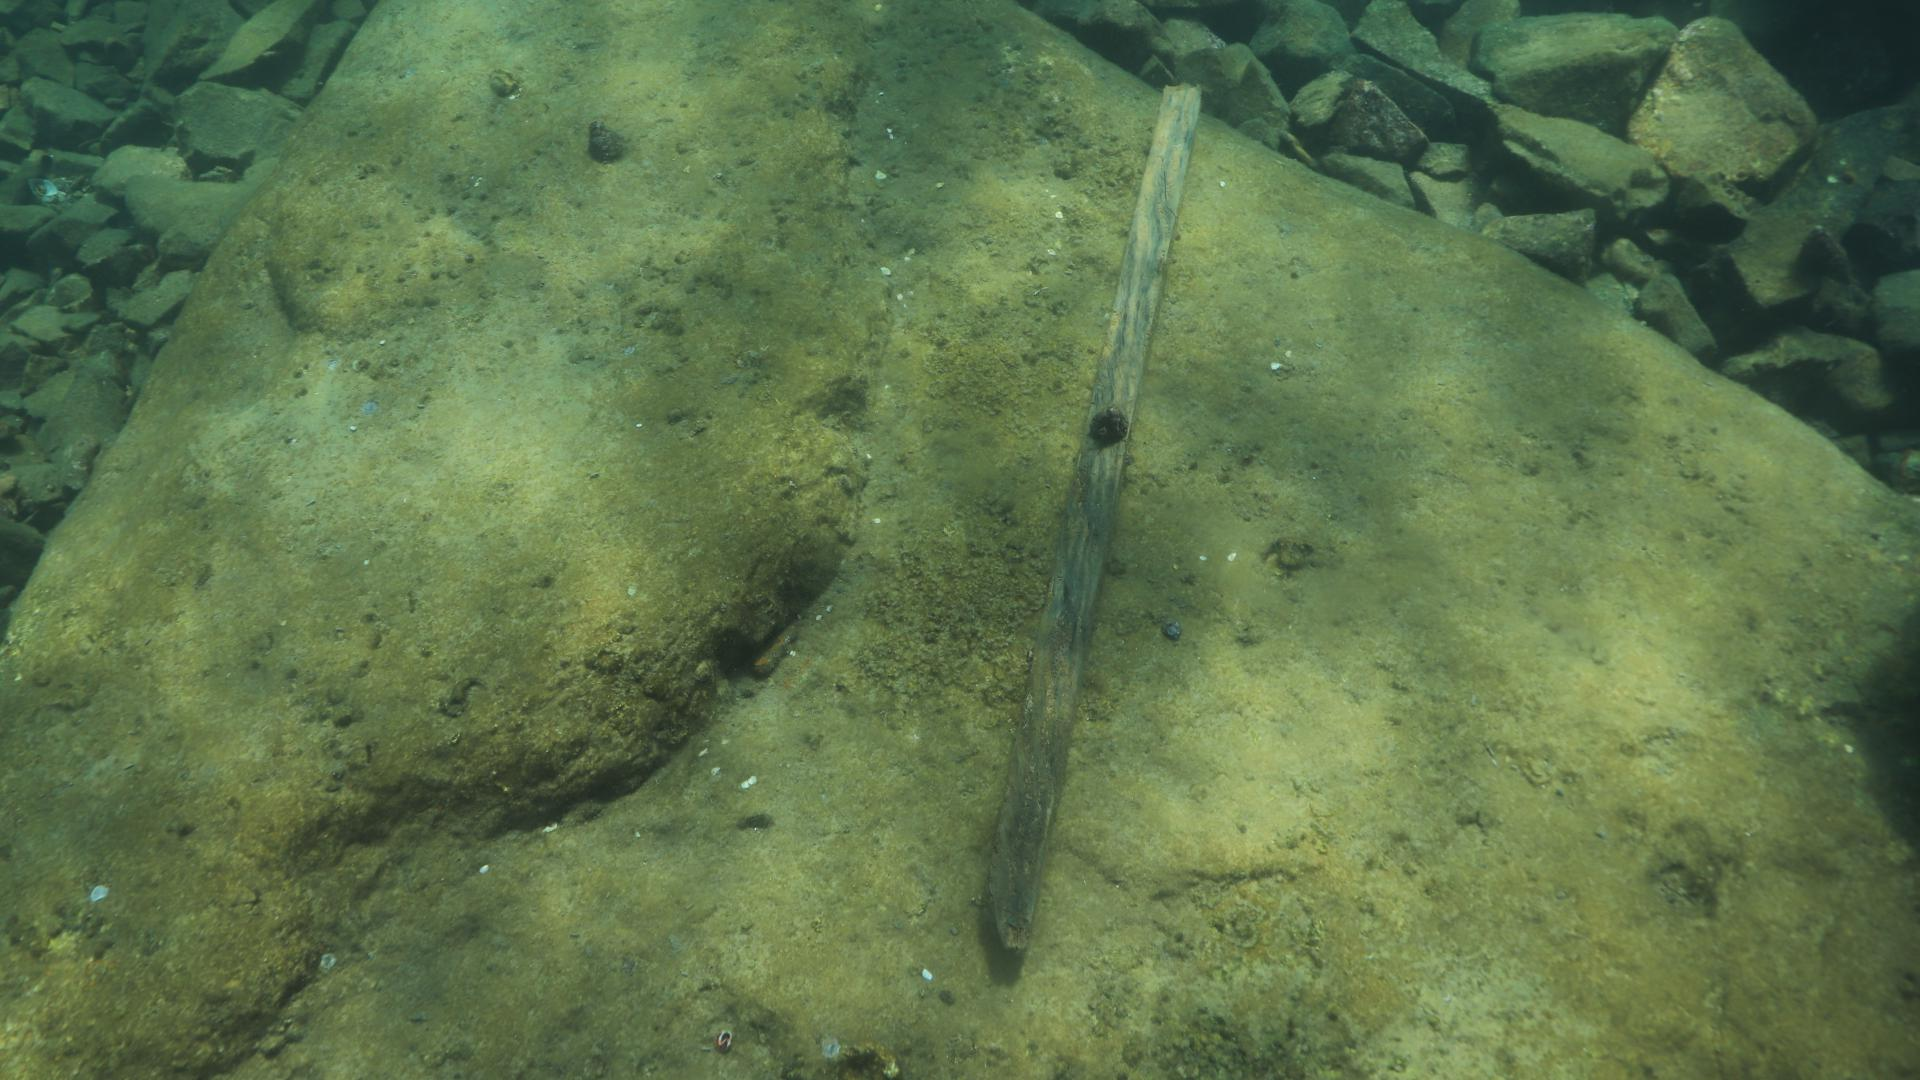wood: (980, 80, 1204, 952)
